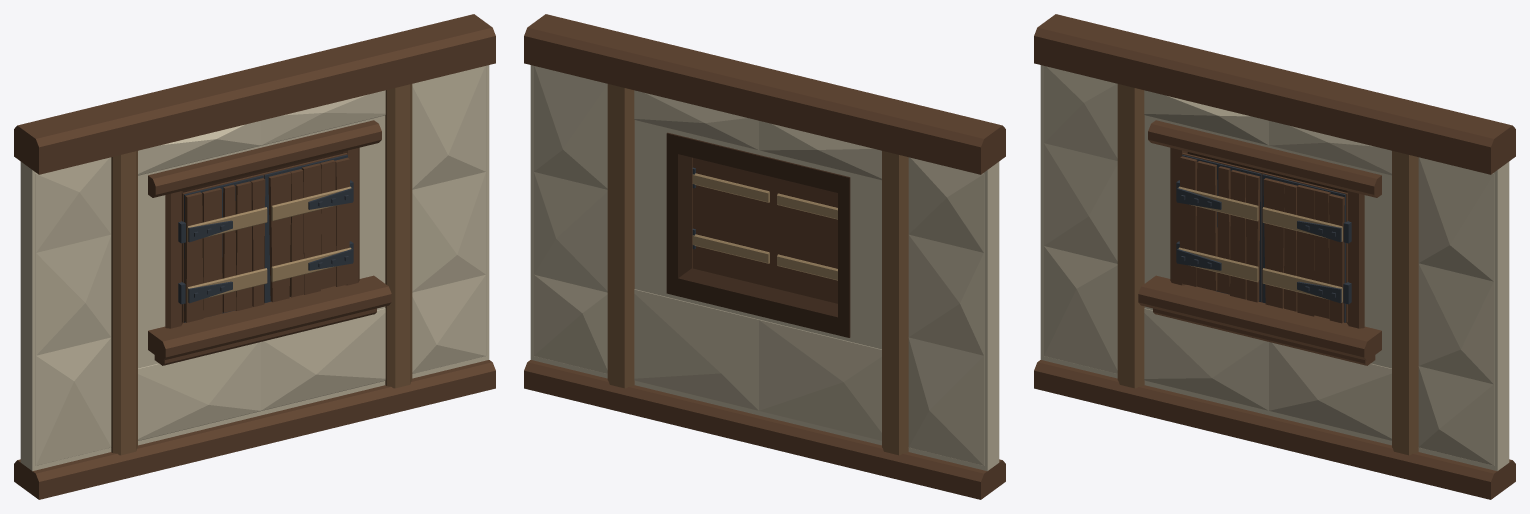
File: stage0_wall_with_window.glb
The picture shows the model from 3 angles, left to right: view 1: azimuth 30°, elevation 25°; view 2: azimuth 150°, elevation 25°; view 3: azimuth 330°, elevation 25°; orthographic projection.
Parts seen in each view (by area): view 1: wall-shell, shutter-right-leaf, shutter-left-leaf; view 2: wall-shell, shutter-right-leaf, shutter-left-leaf; view 3: wall-shell, shutter-right-leaf, shutter-left-leaf.
Boxes of the visible parts, bbox=[...] form: wall-shell: bbox=[14, 14, 495, 499]; shutter-right-leaf: bbox=[262, 153, 353, 302]; shutter-left-leaf: bbox=[178, 173, 267, 322]; wall-shell: bbox=[524, 14, 1005, 499]; shutter-right-leaf: bbox=[692, 158, 776, 288]; shutter-left-leaf: bbox=[776, 178, 837, 303]; wall-shell: bbox=[1034, 14, 1515, 499]; shutter-right-leaf: bbox=[1262, 172, 1351, 323]; shutter-left-leaf: bbox=[1176, 153, 1263, 302].
Size of the model in its own units: 4 by 3 by 0.55.
